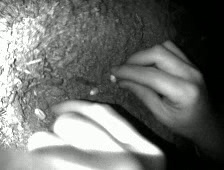corn: (34, 109, 47, 120), (89, 87, 100, 96), (109, 74, 116, 82)
